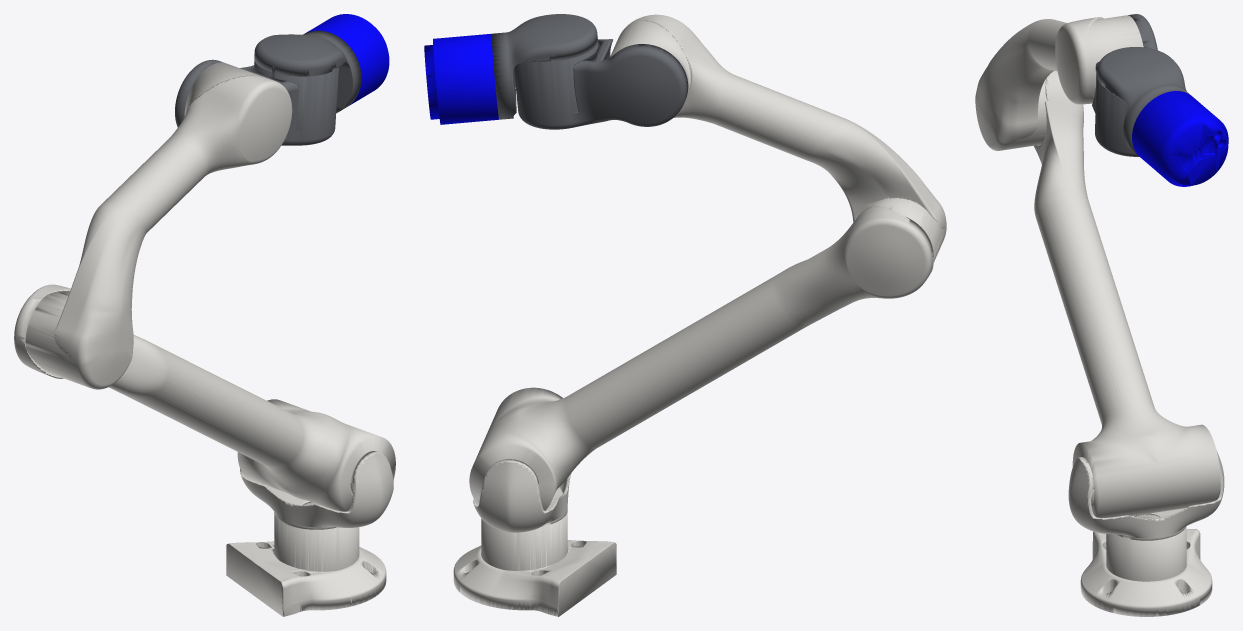
The model's file is pond-z1.glb.
The picture shows the model from 3 angles, left to right: view 1: azimuth 30°, elevation 25°; view 2: azimuth 150°, elevation 25°; view 3: azimuth 270°, elevation 25°; orthographic projection. The views are drawn at different scales.
Size of the model in its own units: 0.3843 by 0.4657 by 0.2053.
